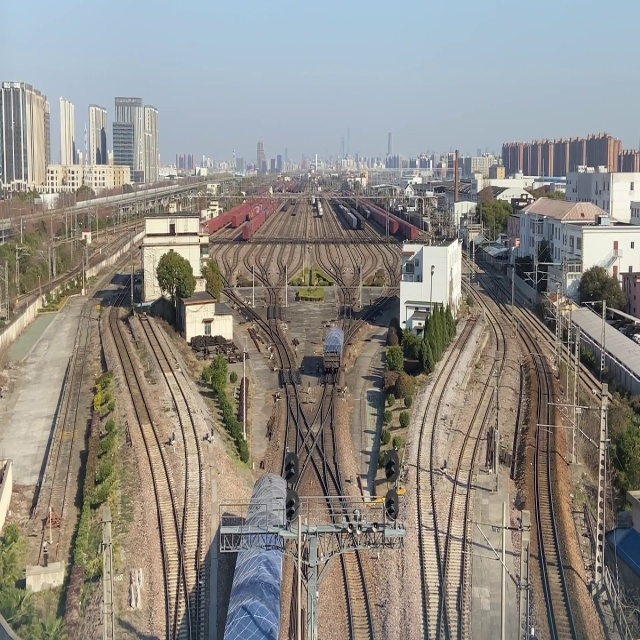train: (316, 326, 346, 373)
